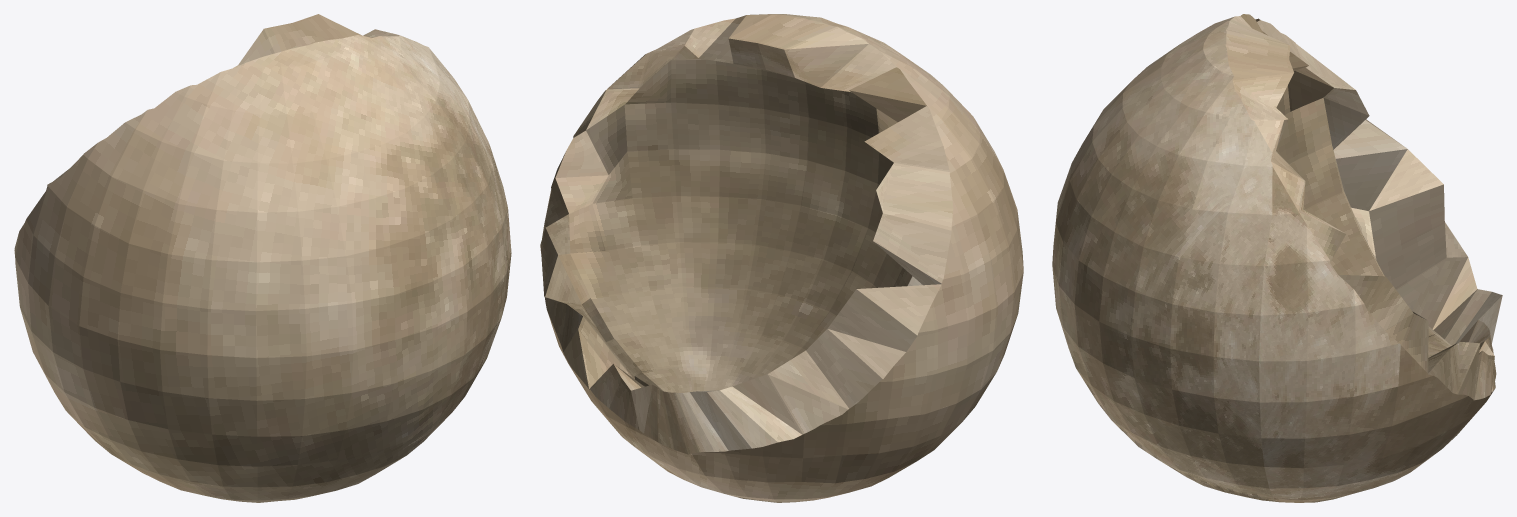
Rendered from moon.glb.
3 views of the same model, side by side, from view 1: azimuth 30°, elevation 25°; view 2: azimuth 150°, elevation 25°; view 3: azimuth 270°, elevation 25° (orthographic). The views are drawn at different scales.
Visible parts, largest first — view 1: luna; view 2: luna; view 3: luna.
Part boxes in pixels (x1=…): luna: x1=14, y1=14, x2=511, y2=502; luna: x1=540, y1=14, x2=1023, y2=502; luna: x1=1052, y1=14, x2=1502, y2=502.
Size of the model in its own units: 2 by 2 by 1.86.
1 material, 1 textured.
